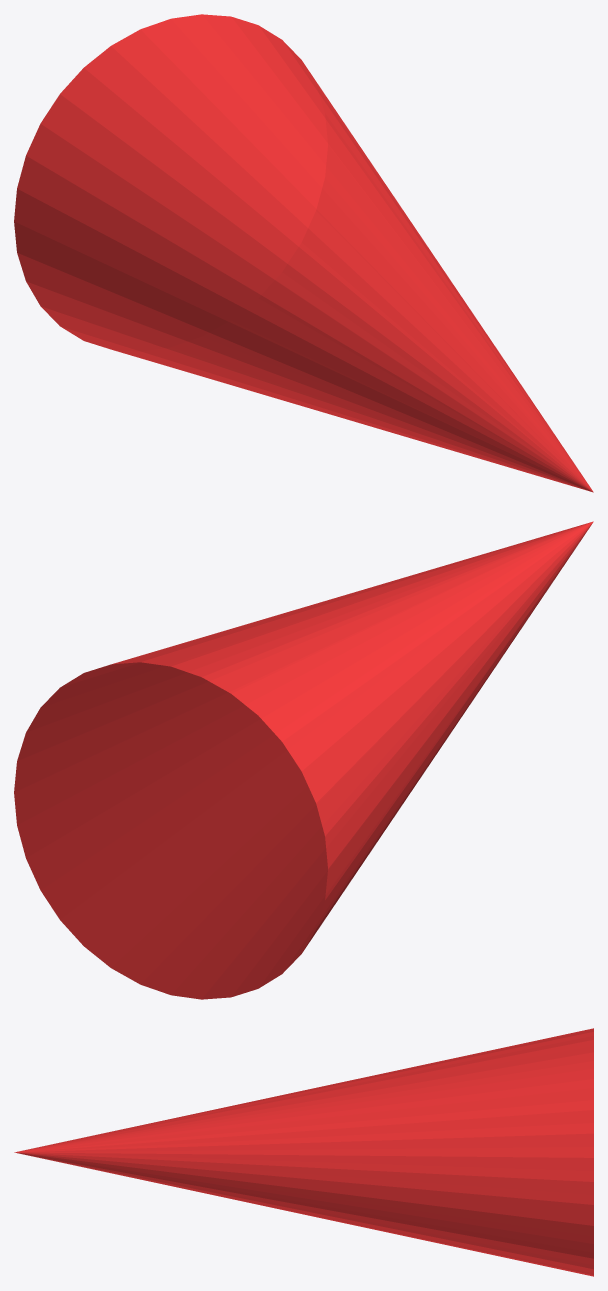
The model's file is guidance.fbx.
The picture shows the model from 3 angles, top to bottom: view 1: azimuth 30°, elevation 25°; view 2: azimuth 150°, elevation 25°; view 3: azimuth 270°, elevation 25°; orthographic projection. The views are drawn at different scales.
Parts seen in each view (by area): view 1: 円錐; view 2: 円錐; view 3: 円錐.
Part boxes in pixels (left/top/right/bottom): 円錐: left=14, top=14, right=593, bottom=492; 円錐: left=14, top=521, right=593, bottom=999; 円錐: left=14, top=1028, right=593, bottom=1276.
Size of the model in its own units: 200 by 200 by 466.
